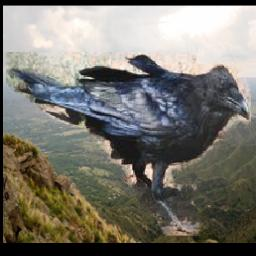Crow: (7, 52, 252, 236)
